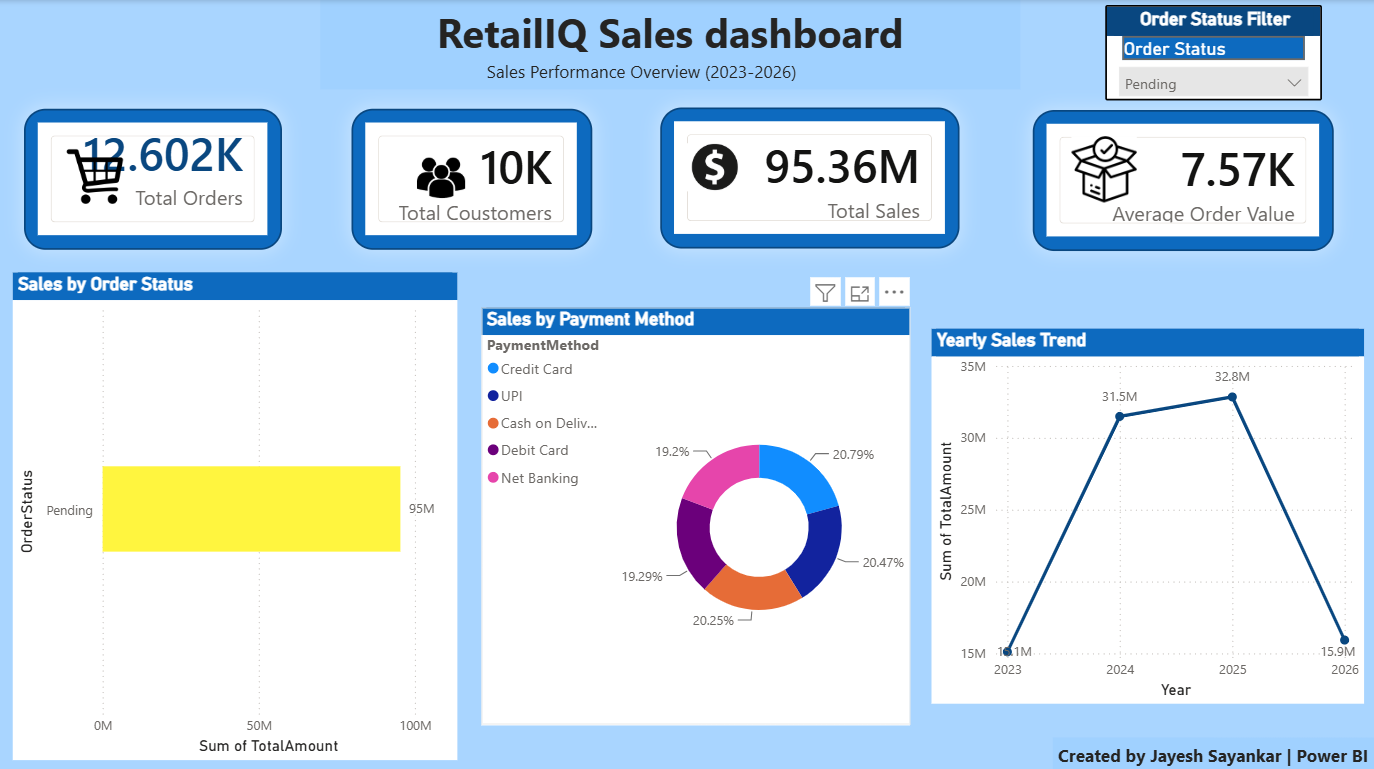

This screenshot's page, from the dashboard's own definition file:
{"tool":"powerbi","page":{"name":"Page 1","canvas":[1280,720],"ordinal":0},"visuals":[{"type":"cardVisual","title":"Total Order","fields":{"Data":["CountNonNull(retailiq orders.OrderID)"]},"box":[23,101.5,240,131.2],"z":0},{"type":"cardVisual","title":"Total Sales","fields":{"Data":["Sum(retailiq orders.TotalAmount)"]},"box":[615,100,278.8,131.2],"z":1000},{"type":"cardVisual","title":"Total Customers","fields":{"Data":["CountNonNull(retailiq customers.CustomerID)"]},"box":[327.5,101.2,223.8,131.2],"z":2000},{"type":"cardVisual","title":"Average Order Value","fields":{"Data":["Avg(retailiq orders.TotalAmount)"]},"box":[961.4,102.9,280,131.4],"z":3000},{"type":"clusteredBarChart","title":"Sales by Order Status","fields":{"Category":["retailiq orders.OrderStatus"],"Y":["Sum(retailiq orders.TotalAmount)"]},"box":[12.5,253.8,413.8,453.8],"z":4000},{"type":"donutChart","title":"Sales by Payment Method","fields":{"Category":["retailiq orders.PaymentMethod"],"Y":["Sum(retailiq orders.TotalAmount)"]},"box":[448.8,286.2,398.8,388.8],"z":5000},{"type":"lineChart","title":"Yearly Sales Trend","fields":{"Category":["retailiq orders.OrderDate.Variation.Date Hierarchy.Year","retailiq orders.OrderDate.Variation.Date Hierarchy.Quarter","retailiq orders.OrderDate.Variation.Date Hierarchy.Month","retailiq orders.OrderDate.Variation.Date Hierarchy.Day"],"Y":["Sum(retailiq orders.TotalAmount)"]},"box":[867.5,306.2,402.5,348.8],"z":6000},{"type":"slicer","title":"Order Status Filter","fields":{"Values":["retailiq orders.OrderStatus"]},"box":[1028.8,5,201.2,88.8],"z":7000},{"type":"textbox","box":[298.6,0,651.4,82.9],"z":8000},{"type":"textbox","box":[448.8,50,353.8,32.5],"z":9000},{"type":"image","box":[62.5,133.8,52.5,61.2],"z":10000},{"type":"image","box":[375,142.5,73.8,45],"z":11000},{"type":"image","box":[640,125,52.5,62.5],"z":12000},{"type":"image","box":[987.5,126.2,81.2,61.2],"z":13000},{"type":"textbox","box":[980,686.2,300,33.8],"z":13001}]}

Visuals, with their boxes in screenshot pixels (x1, y1, x2, y2), scaled from the page's 1280x720 canvas onto the 1374x769 screenshot:
"Total Order" cardVisual: detection(25, 108, 282, 249)
"Total Sales" cardVisual: detection(660, 107, 959, 247)
"Total Customers" cardVisual: detection(352, 108, 592, 248)
"Average Order Value" cardVisual: detection(1032, 110, 1333, 250)
"Sales by Order Status" clusteredBarChart: detection(13, 271, 458, 756)
"Sales by Payment Method" donutChart: detection(482, 306, 910, 721)
"Yearly Sales Trend" lineChart: detection(931, 327, 1363, 700)
"Order Status Filter" slicer: detection(1104, 5, 1320, 100)
textbox: detection(321, 0, 1020, 89)
textbox: detection(482, 53, 862, 88)
image: detection(67, 143, 123, 208)
image: detection(403, 152, 482, 200)
image: detection(687, 134, 743, 200)
image: detection(1060, 135, 1147, 200)
textbox: detection(1052, 733, 1373, 768)
